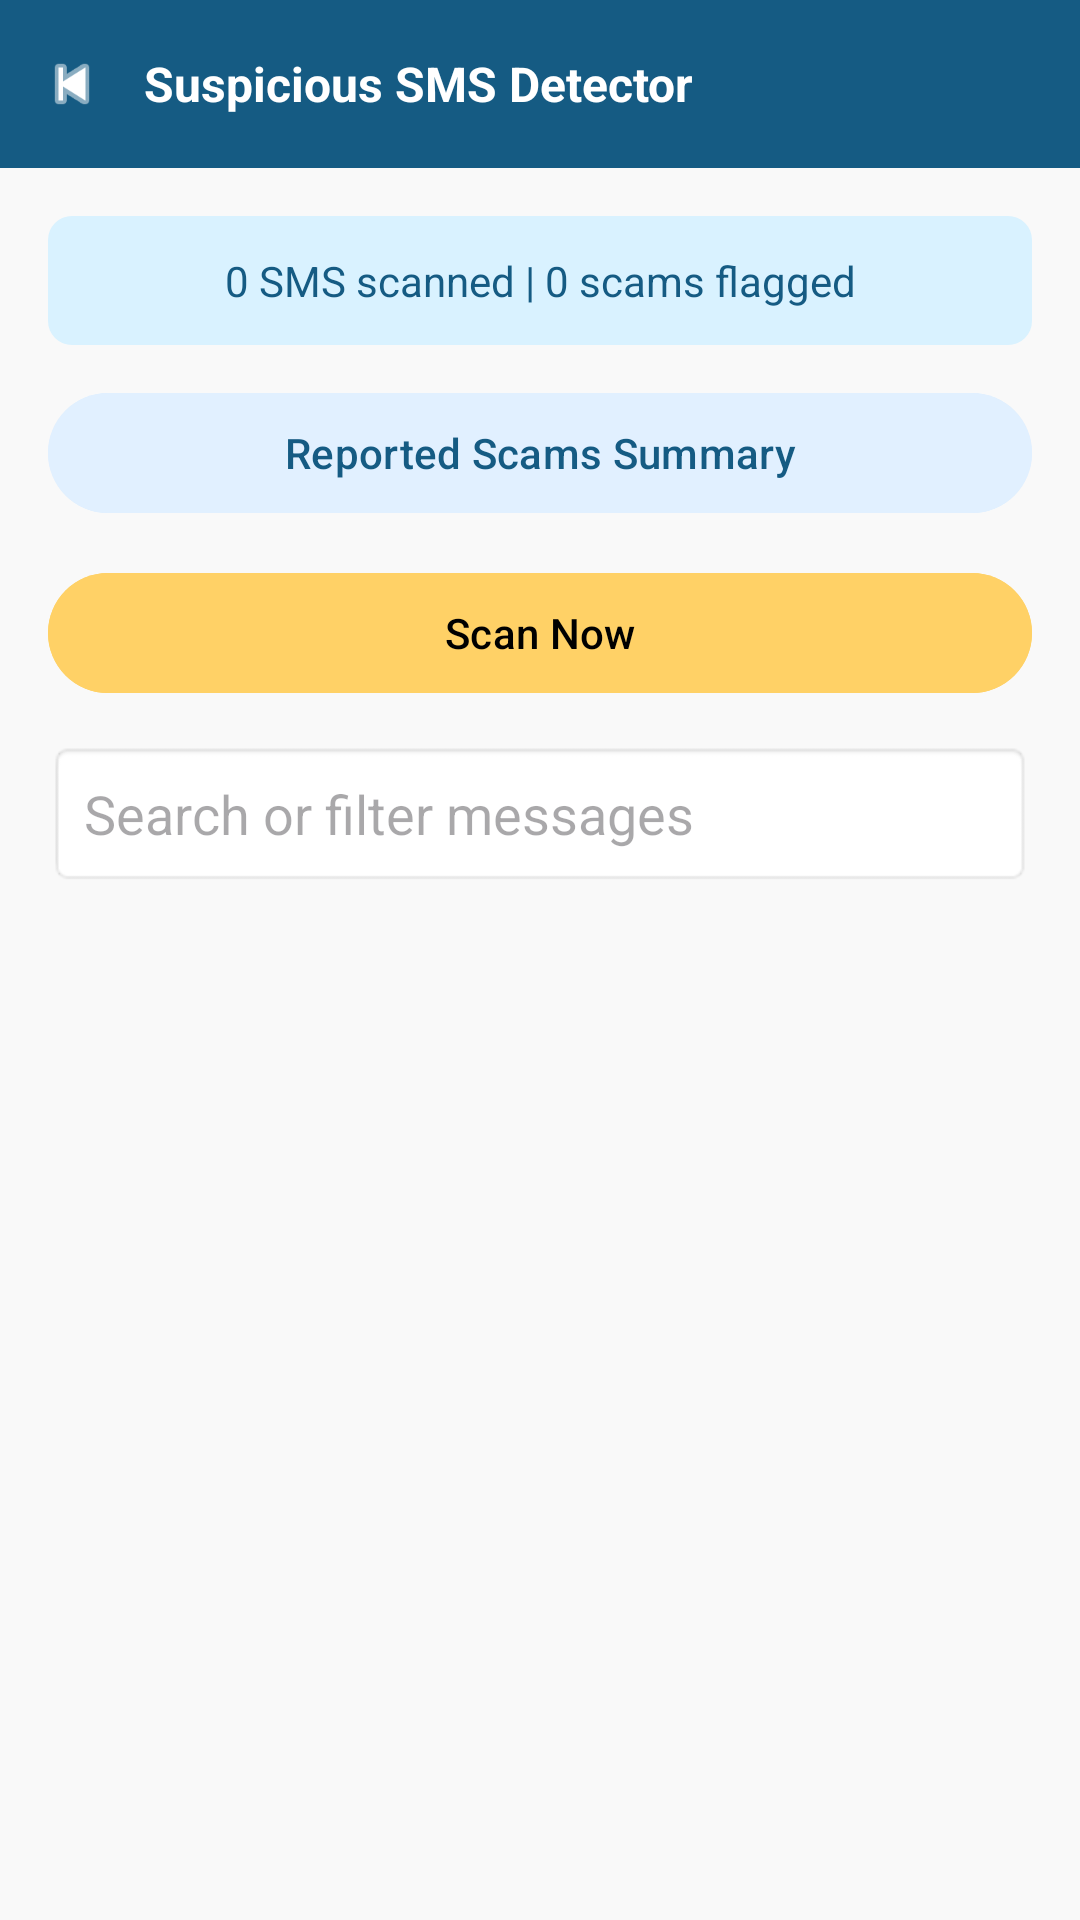

Screen size 1080w x 1920h. Icon name, then its box in pixels as rect(x1, y1, x2, y2):
previous: rect(55, 64, 89, 104)
